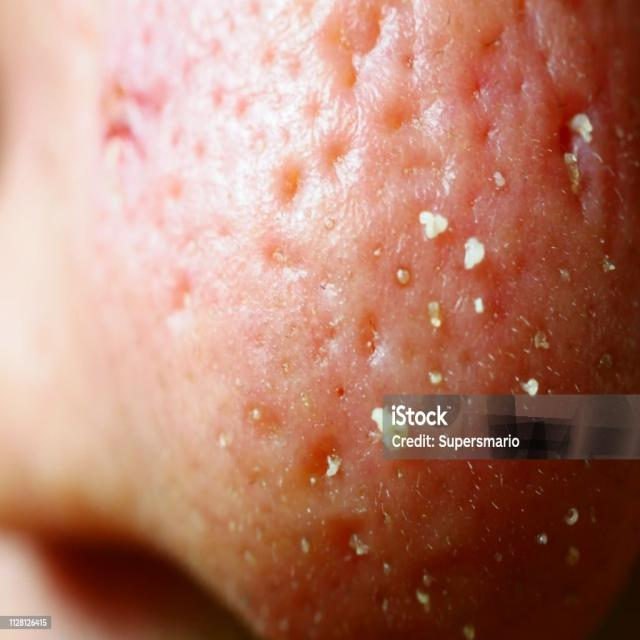whitehead: (178, 59, 636, 639)
